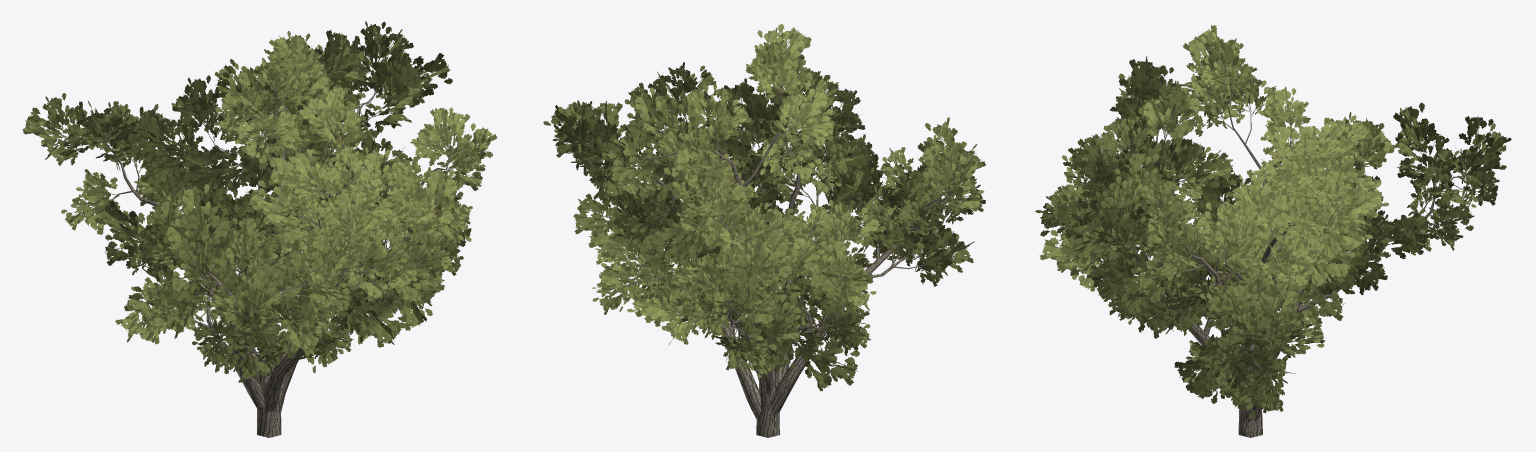
The model's file is scruboak.glb.
3 views of the same model, side by side, from view 1: azimuth 30°, elevation 25°; view 2: azimuth 150°, elevation 25°; view 3: azimuth 270°, elevation 25° (orthographic). The views are drawn at different scales.
Visible parts, largest first — view 1: eztree-scruboak; view 2: eztree-scruboak; view 3: eztree-scruboak.
Boxes of the visible parts, x1,y1,x2,y2 form: eztree-scruboak: (22, 21, 497, 437); eztree-scruboak: (543, 23, 985, 437); eztree-scruboak: (1035, 25, 1511, 437).
Size of the model in its own units: 3.88 by 4 by 4.37.
Materials: 2 (2 with a texture image).
